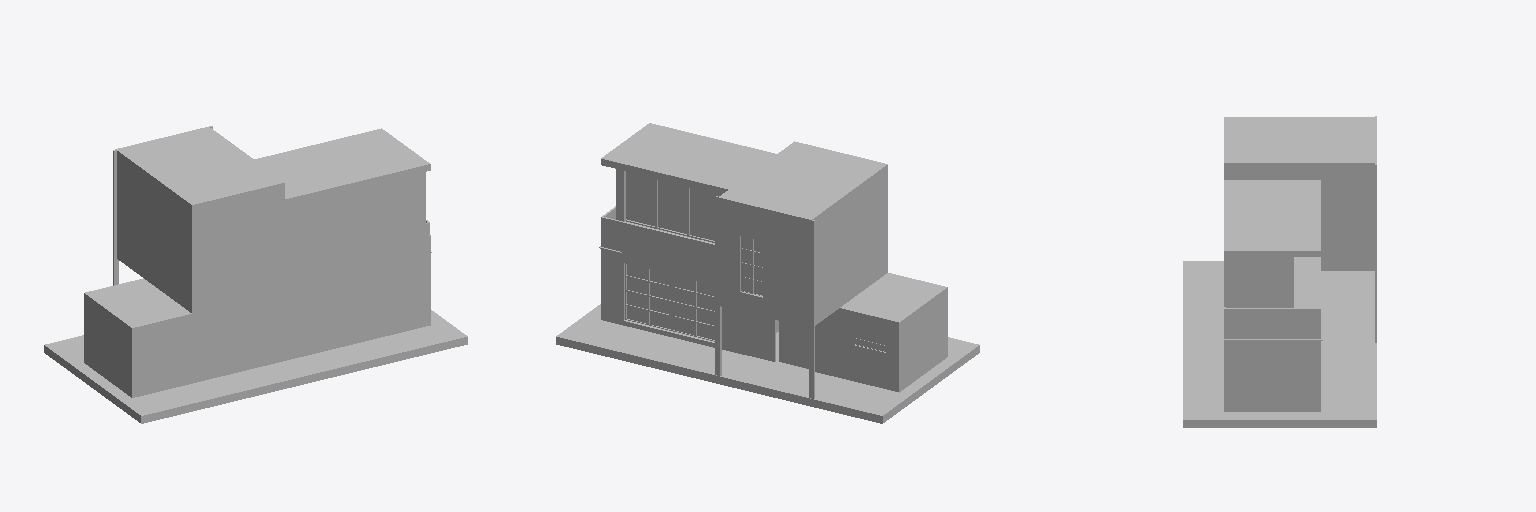
Rendered from residential_concrete_2.obj.
3 renders of one model, left to right at view 1: azimuth 30°, elevation 25°; view 2: azimuth 150°, elevation 25°; view 3: azimuth 270°, elevation 25°, orthographic.
Parts seen in each view (by area): view 1: Cube.001; view 2: Cube.001; view 3: Cube.001.
Boxes of the visible parts, <box> form: Cube.001: <box>44,126,467,423</box>; Cube.001: <box>556,123,979,423</box>; Cube.001: <box>1183,116,1376,427</box>.
Bounding box in the file's own units: 1 × 0.5503 × 0.5184.